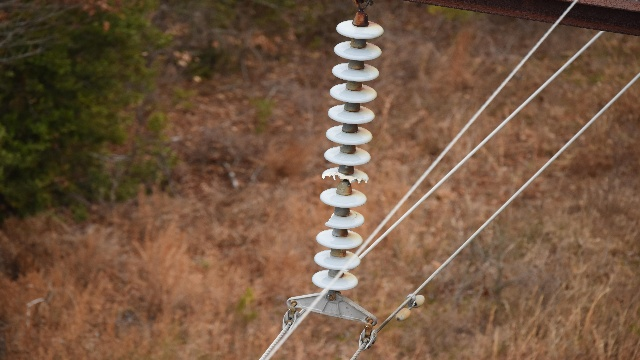broken_local: (320, 170, 370, 185), (322, 208, 341, 229)
insulator_unspecified: (311, 19, 383, 291)
